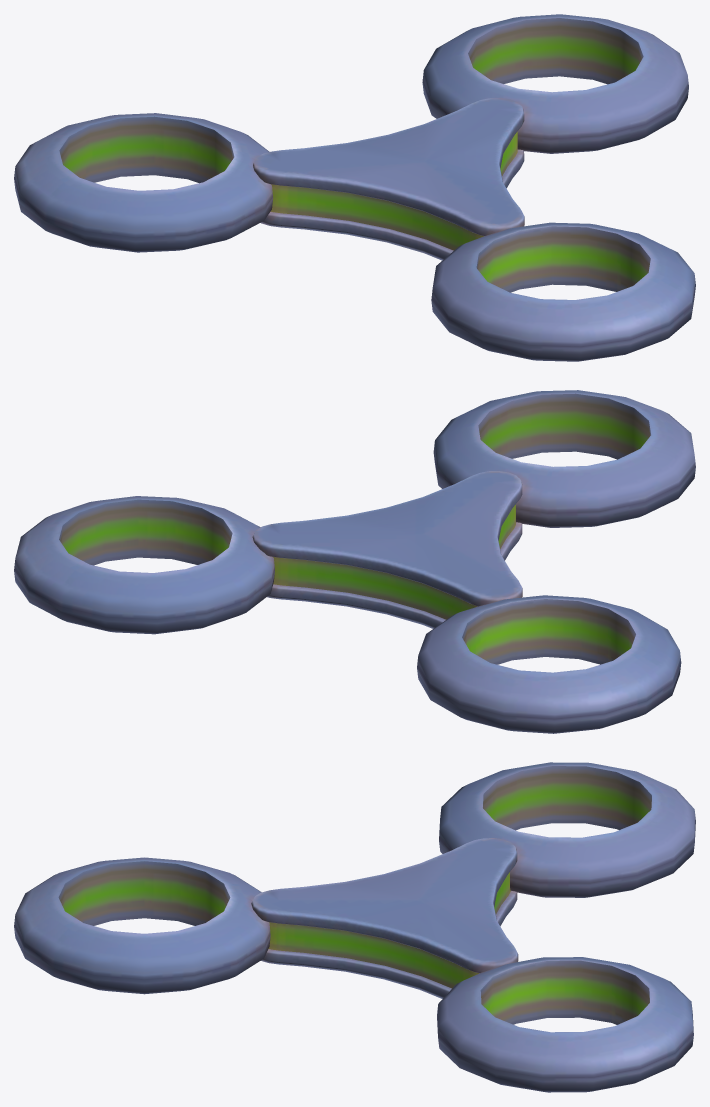
File: S04Chevron_low1_TopRotater_low_MainTriRotater2_low.fbx
3 renders of one model, top to bottom at view 1: azimuth 30°, elevation 25°; view 2: azimuth 150°, elevation 25°; view 3: azimuth 270°, elevation 25°, orthographic. The views are drawn at different scales.
Parts seen in each view (by area): view 1: S04Chevron_low1_TopRotater_low_MainTriRotater2_low_0; view 2: S04Chevron_low1_TopRotater_low_MainTriRotater2_low_0; view 3: S04Chevron_low1_TopRotater_low_MainTriRotater2_low_0.
Boxes of the visible parts, <box> form: S04Chevron_low1_TopRotater_low_MainTriRotater2_low_0: <box>14,14,695,361</box>; S04Chevron_low1_TopRotater_low_MainTriRotater2_low_0: <box>14,390,695,733</box>; S04Chevron_low1_TopRotater_low_MainTriRotater2_low_0: <box>14,762,695,1092</box>.
Size of the model in its own units: 13.13 by 1.15 by 12.48.
